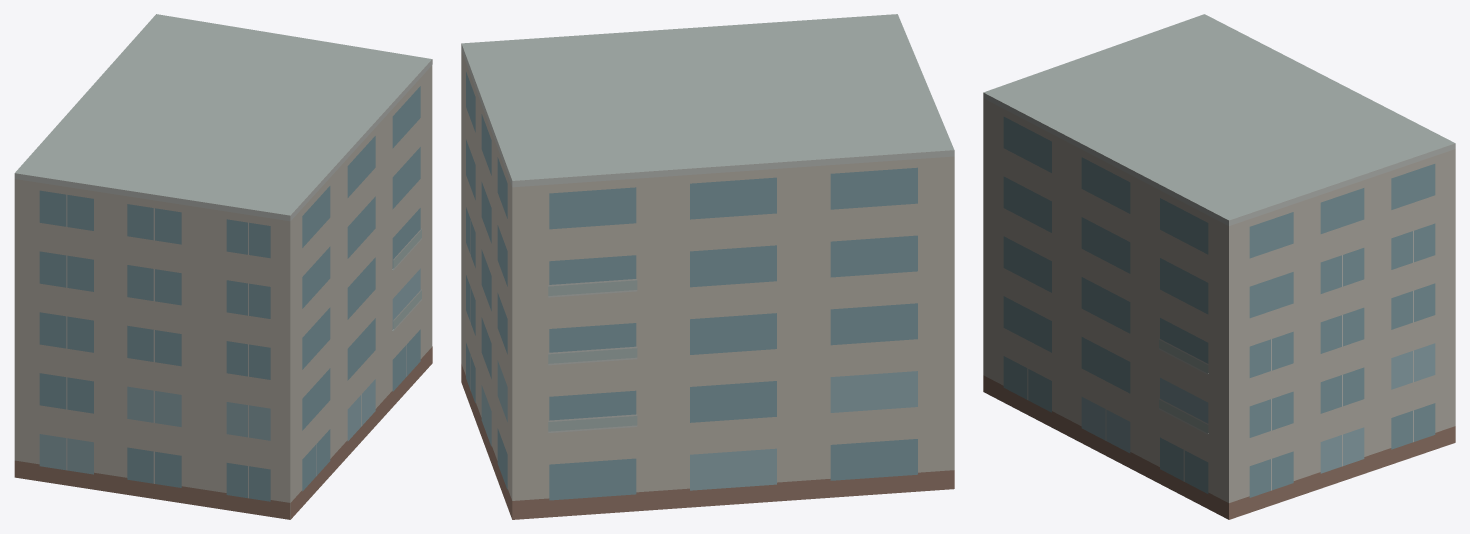
Rendered from survey-upis-32833254.glb.
3 renders of one model, left to right at view 1: azimuth 30°, elevation 25°; view 2: azimuth 150°, elevation 25°; view 3: azimuth 270°, elevation 25°, orthographic. The views are drawn at different scales.
Parts seen in each view (by area): view 1: survey-upis-32833254.tmp; view 2: survey-upis-32833254.tmp; view 3: survey-upis-32833254.tmp.
Boxes of the visible parts, x1,y1,x2,y2 form: survey-upis-32833254.tmp: (14, 14, 432, 519); survey-upis-32833254.tmp: (461, 14, 954, 519); survey-upis-32833254.tmp: (983, 14, 1455, 519).
Size of the model in its own units: 19.25 by 13 by 18.6.
